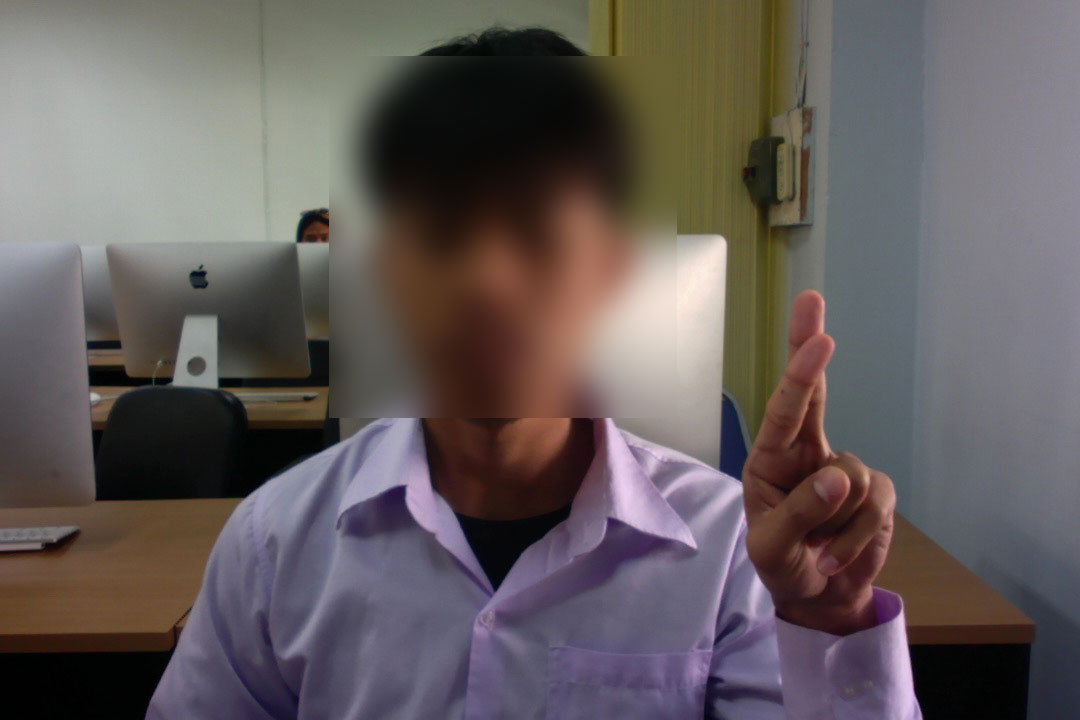rao: (734, 282, 906, 617)
